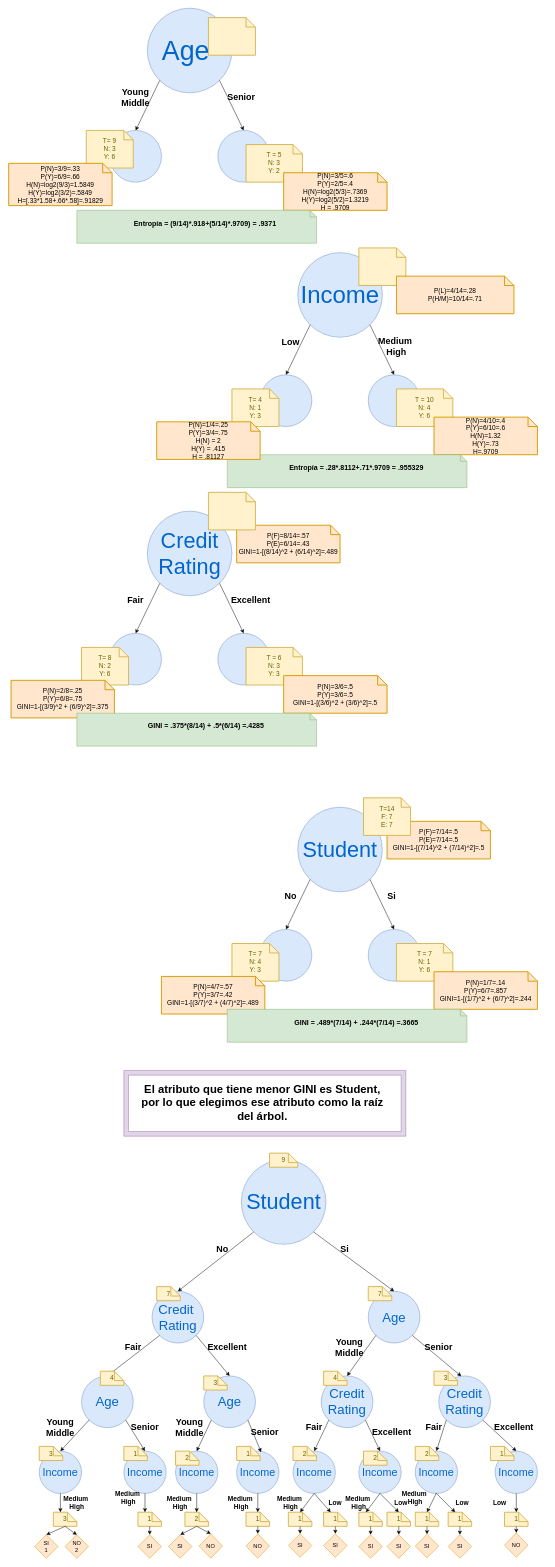
Some shapes in this 555 by 1567 pixel diagram are drawn without their labels. The box of each missing label's shape, as (x1, y1, x2, y2) in pixels:
T=14 F: 8 E: 6: (208, 492, 256, 530)
T=14 L: 4 H/M: 10: (358, 247, 406, 286)
T=14 M/Y: 9 S: 5: (208, 17, 256, 55)
